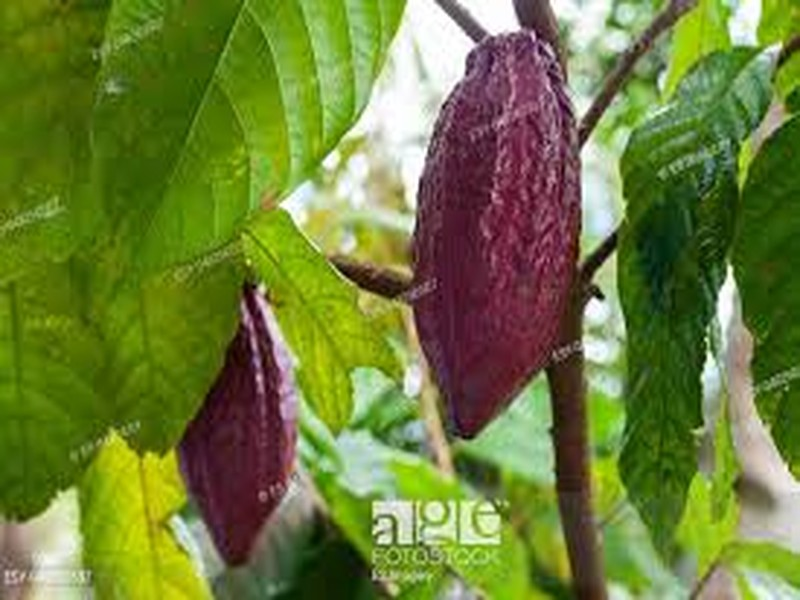Cacaopod: (411, 27, 576, 435)
